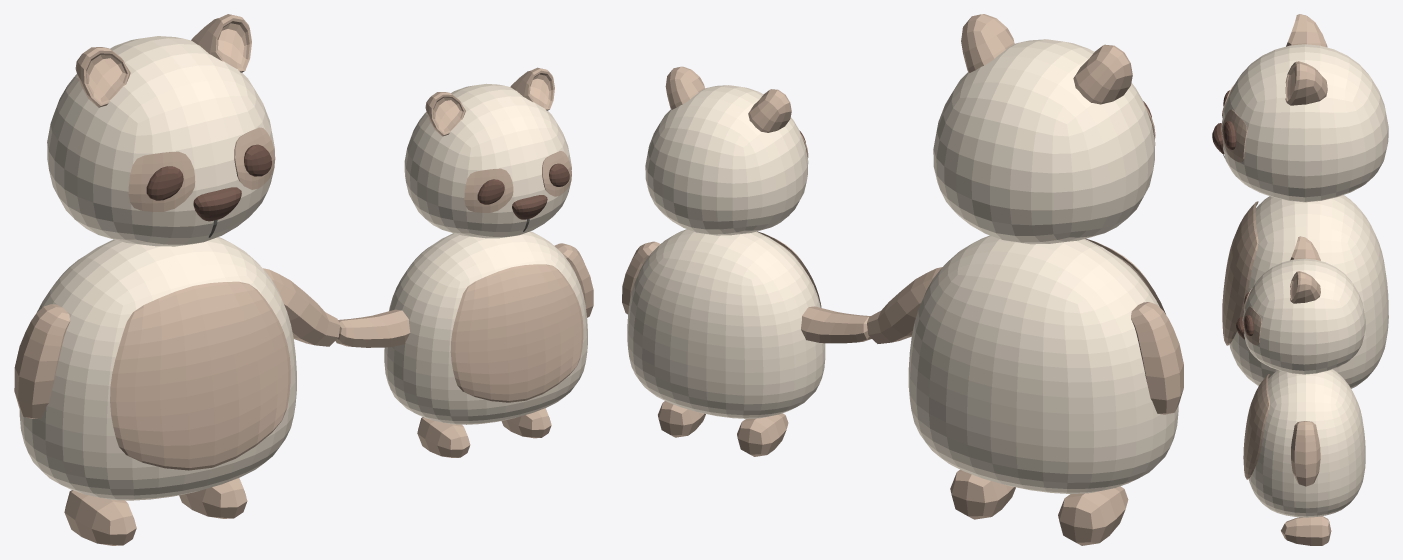
Rendered from dadda_2.fbx.
3 renders of one model, left to right at view 1: azimuth 30°, elevation 25°; view 2: azimuth 150°, elevation 25°; view 3: azimuth 270°, elevation 25°, orthographic. The views are drawn at different scales.
Visible parts, largest first — view 1: Cube.007, Cube.008, Cube.010, Cube.011, Cube.012; view 2: Cube.007, Cube.008, Cube.010; view 3: Cube.007, Cube.008, Cube.010, Cube.011.
Boxes of the visible parts, x1,y1,x2,y2 form: Cube.007: [14, 231, 593, 545]; Cube.008: [47, 14, 275, 246]; Cube.010: [404, 67, 571, 238]; Cube.011: [146, 144, 271, 200]; Cube.012: [477, 163, 569, 204]; Cube.007: [622, 229, 1183, 545]; Cube.008: [933, 14, 1155, 244]; Cube.010: [645, 66, 808, 235]; Cube.007: [1222, 195, 1388, 545]; Cube.008: [1212, 14, 1388, 202]; Cube.010: [1236, 236, 1365, 374]; Cube.011: [1223, 90, 1236, 149].
Bounding box in the file's own units: 2022 × 723 × 1695.
